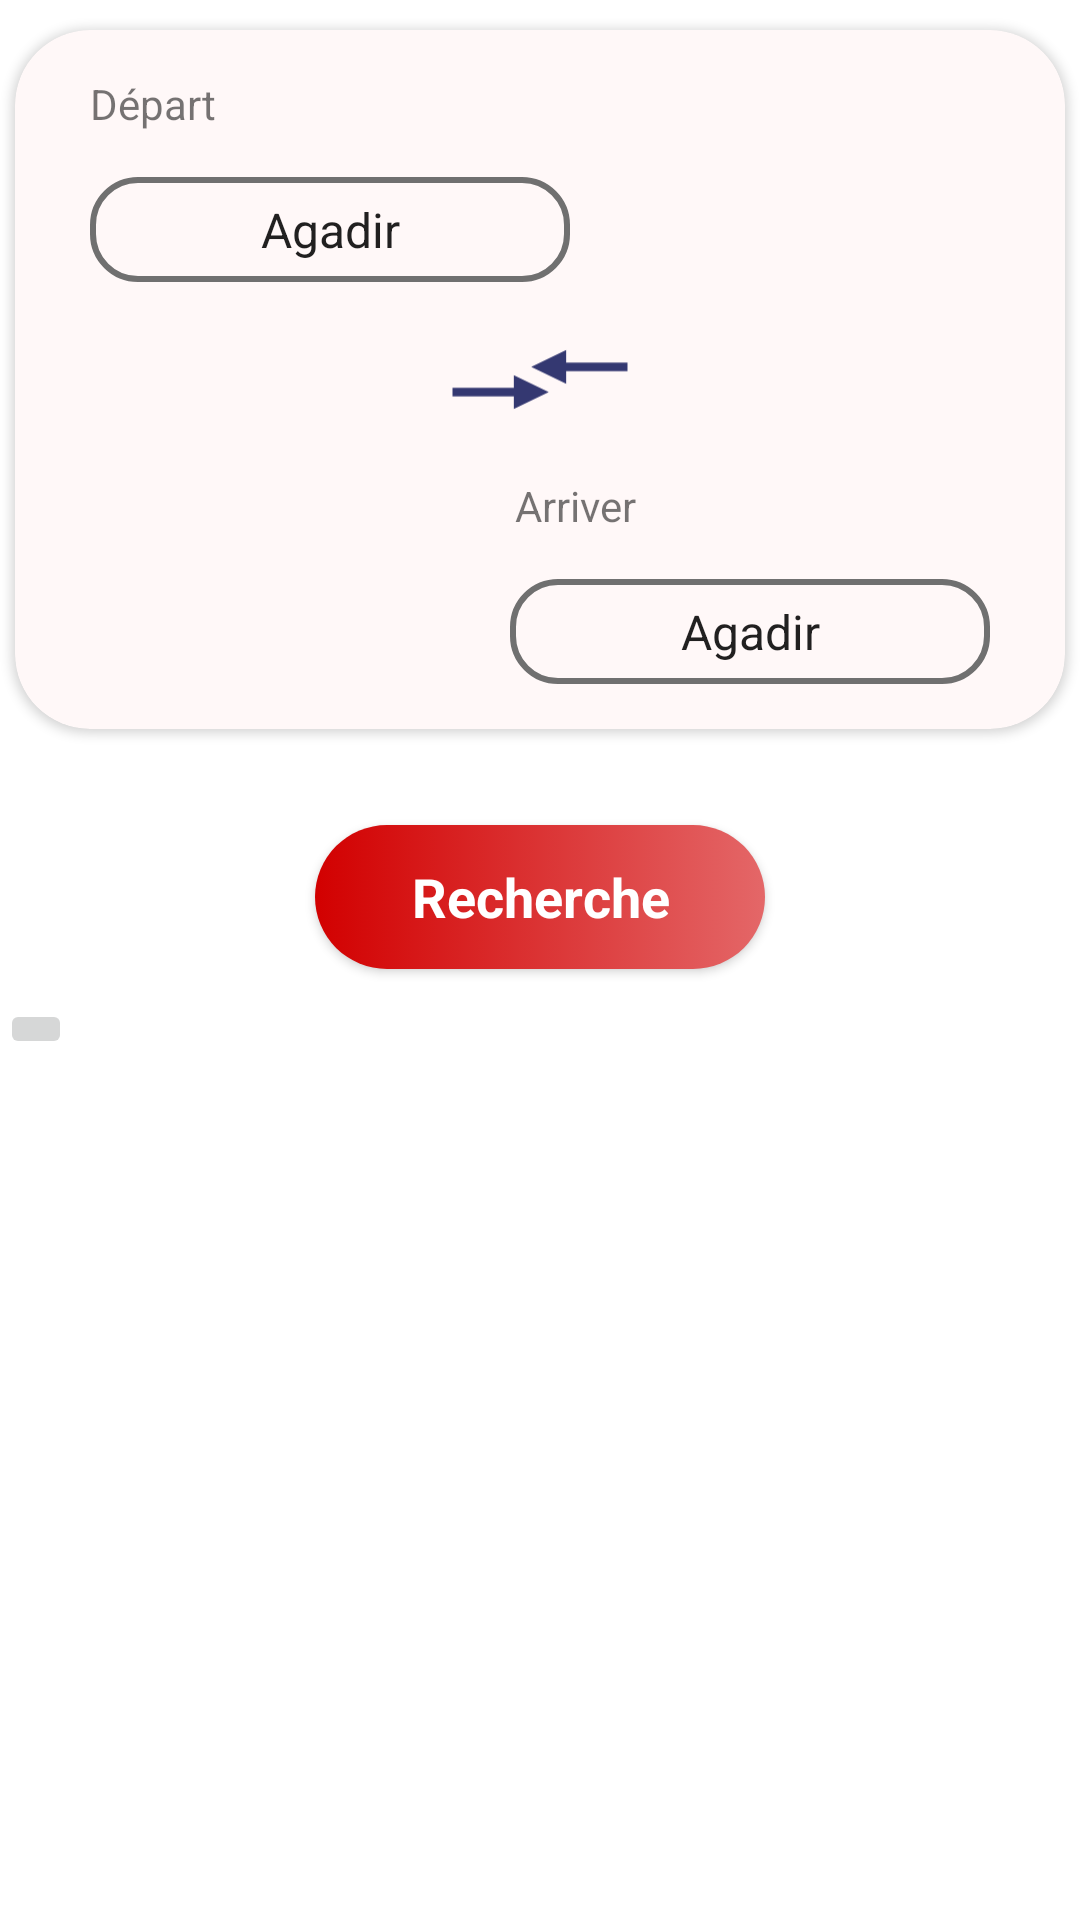

Screen size 1080 × 1920. Icon name, then its center in pixels as (x=x, y=y):
direction arrows: (x=540, y=379)
